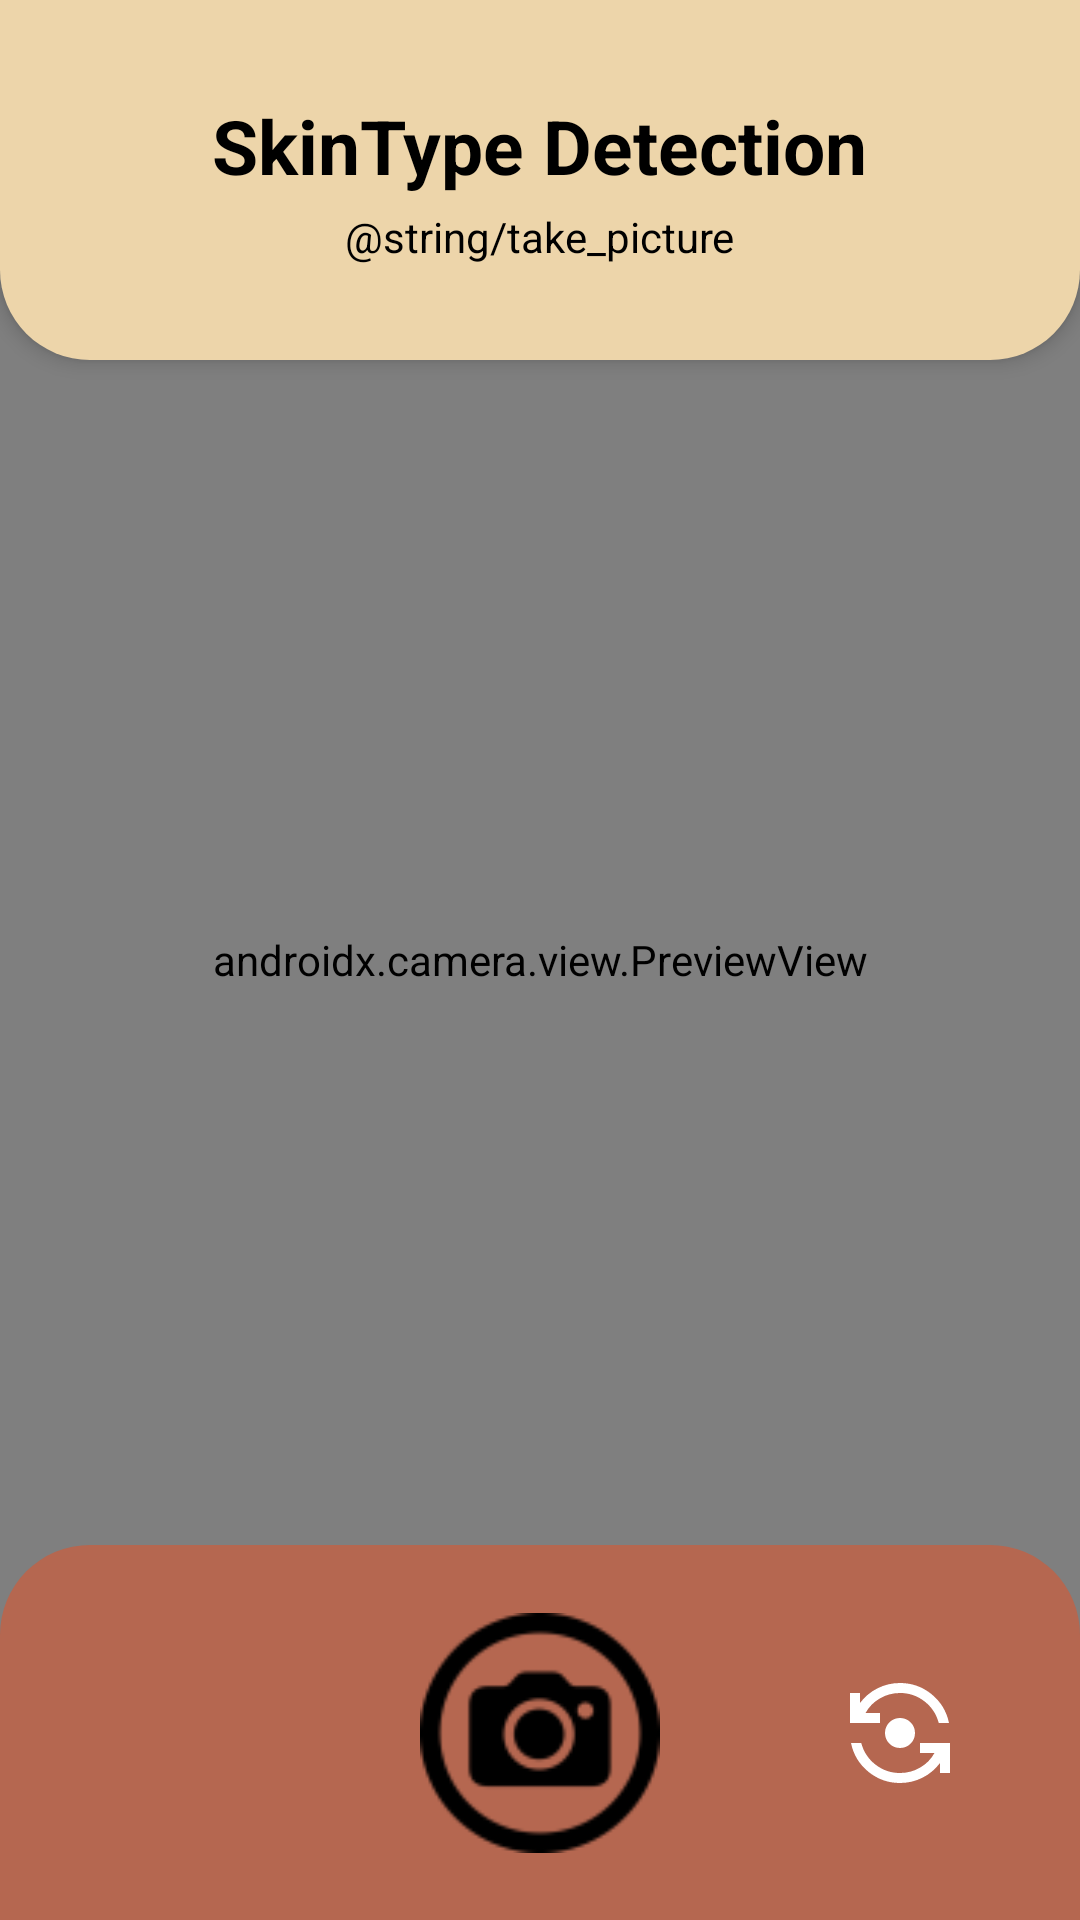

Named icons in this screenshot (1080 x 1920) and their centers, [x,y]:
switch camera: [900,1733]
